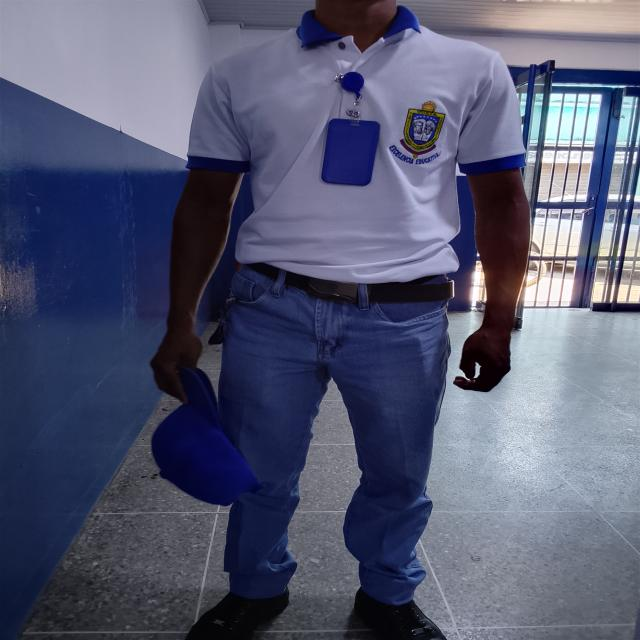carnet: (321, 118, 380, 186)
uniforme_superior: (184, 4, 528, 284)
